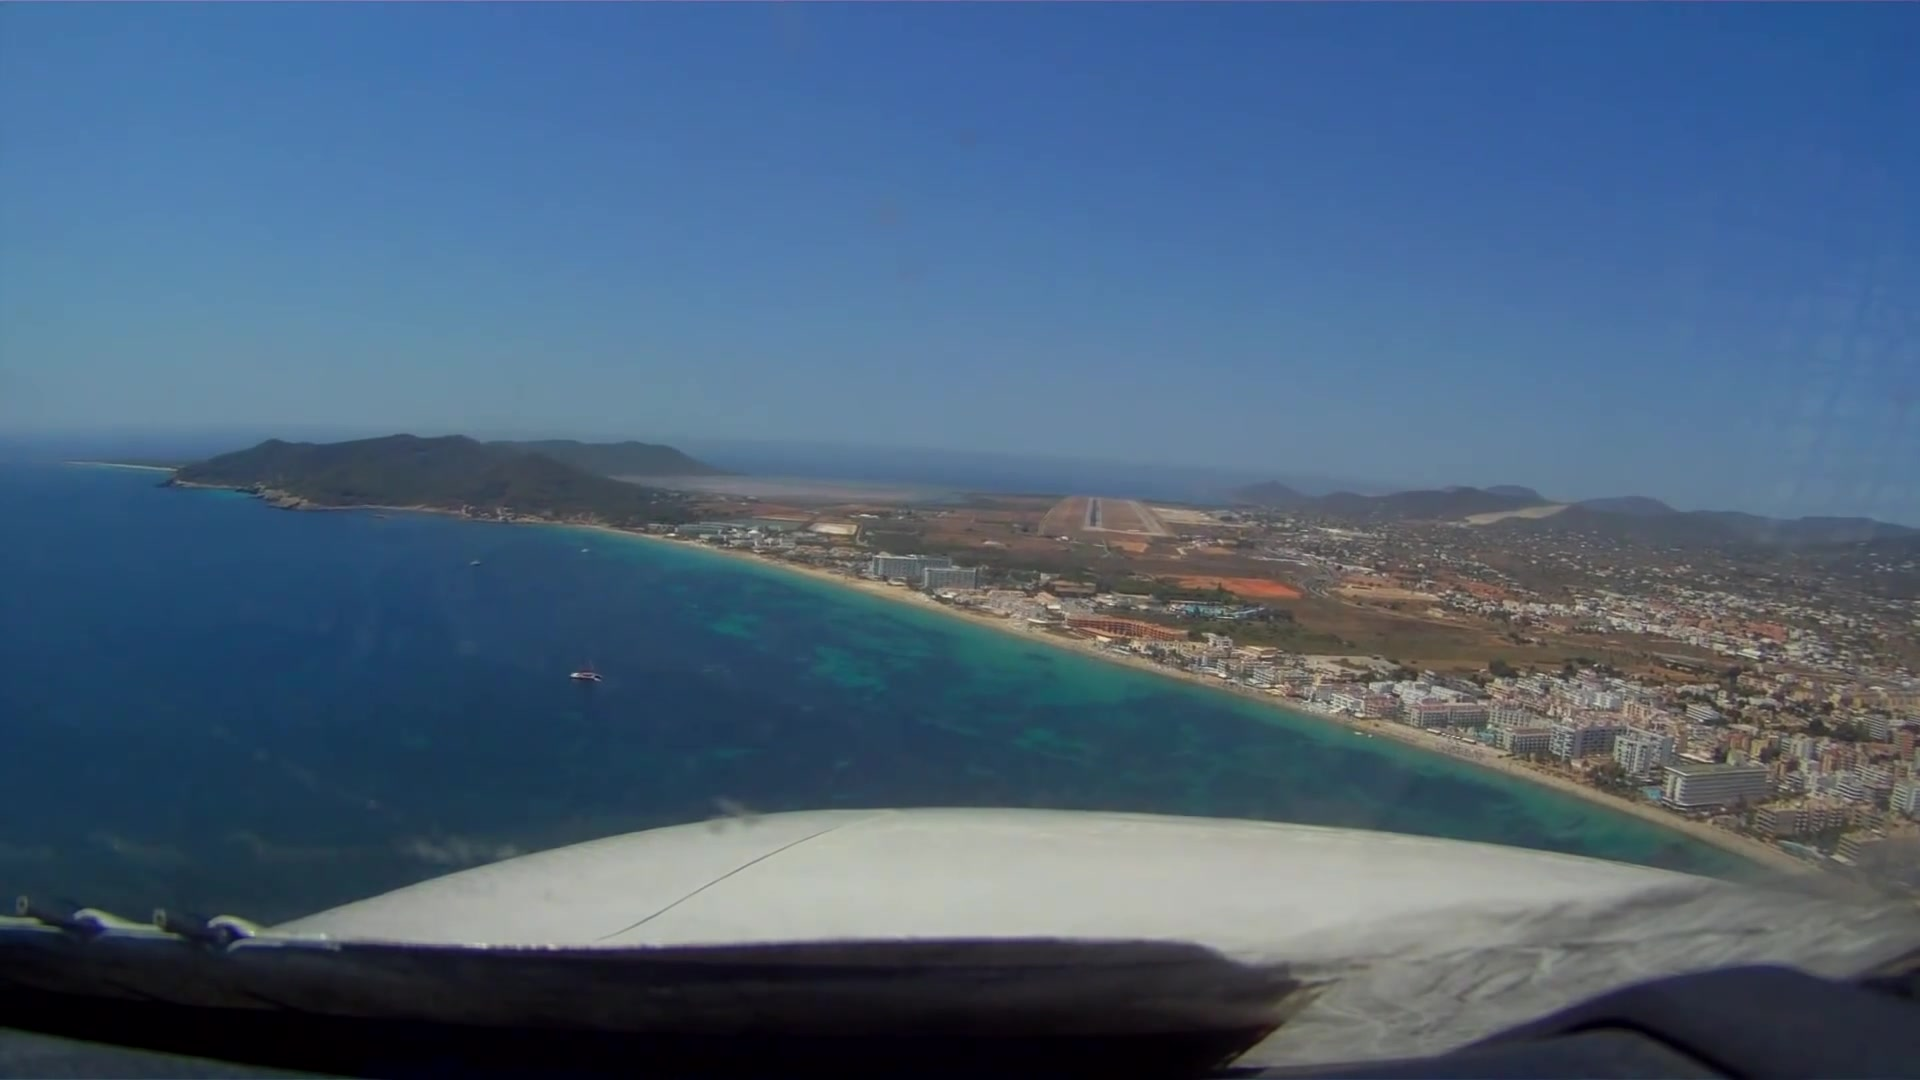runway: (1125, 498, 1171, 535), (1081, 495, 1104, 531)
